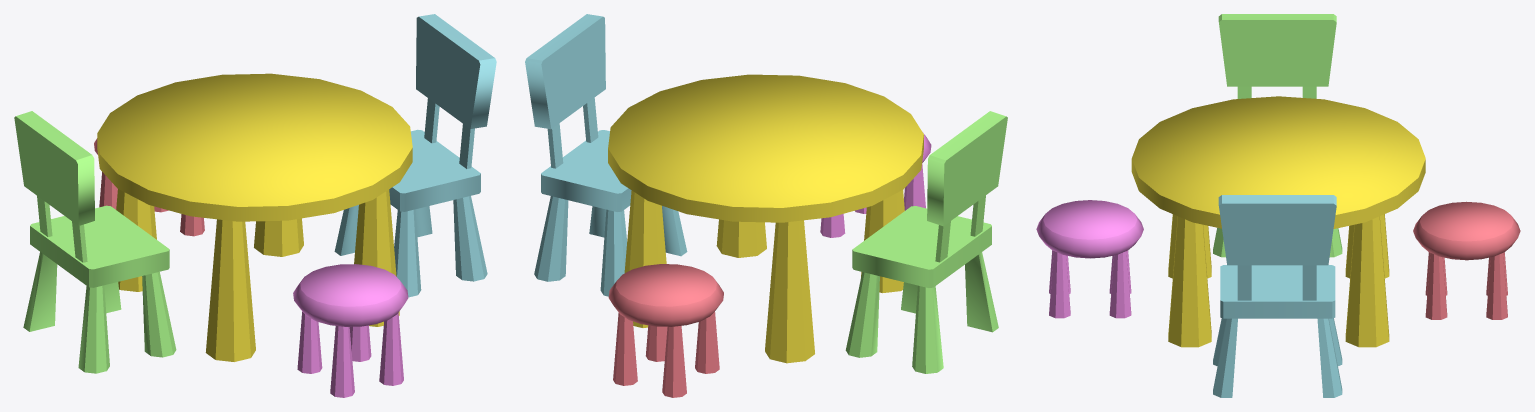
The model's file is kids table.fbx.
3 renders of one model, left to right at view 1: azimuth 30°, elevation 25°; view 2: azimuth 150°, elevation 25°; view 3: azimuth 270°, elevation 25°, orthographic. The views are drawn at different scales.
Visible parts, largest first — view 1: kid_table_set:pCylinder2, kid_table_set:pCylinder2.004, kid_table_set:pCylinder2.001, kid_table_set:pCylinder2.002, kid_table_set:pCylinder2.003; view 2: kid_table_set:pCylinder2, kid_table_set:pCylinder2.004, kid_table_set:pCylinder2.001, kid_table_set:pCylinder2.003, kid_table_set:pCylinder2.002; view 3: kid_table_set:pCylinder2, kid_table_set:pCylinder2.001, kid_table_set:pCylinder2.004, kid_table_set:pCylinder2.002, kid_table_set:pCylinder2.003.
Part boxes in pixels (x1,y1,x2,y2): kid_table_set:pCylinder2: (97,73,412,361); kid_table_set:pCylinder2.004: (14,111,176,373); kid_table_set:pCylinder2.001: (334,14,496,297); kid_table_set:pCylinder2.002: (293,264,408,397); kid_table_set:pCylinder2.003: (94,138,204,236); kid_table_set:pCylinder2: (608,74,923,363); kid_table_set:pCylinder2.004: (845,111,1007,373); kid_table_set:pCylinder2.001: (525,14,687,296); kid_table_set:pCylinder2.003: (608,264,723,397); kid_table_set:pCylinder2.002: (820,133,931,237); kid_table_set:pCylinder2: (1131,96,1425,347); kid_table_set:pCylinder2.001: (1213,195,1342,397); kid_table_set:pCylinder2.004: (1213,14,1342,257); kid_table_set:pCylinder2.002: (1036,200,1143,318); kid_table_set:pCylinder2.003: (1413,201,1520,319).
Bounding box in the file's own units: 130 × 63.57 × 140.
